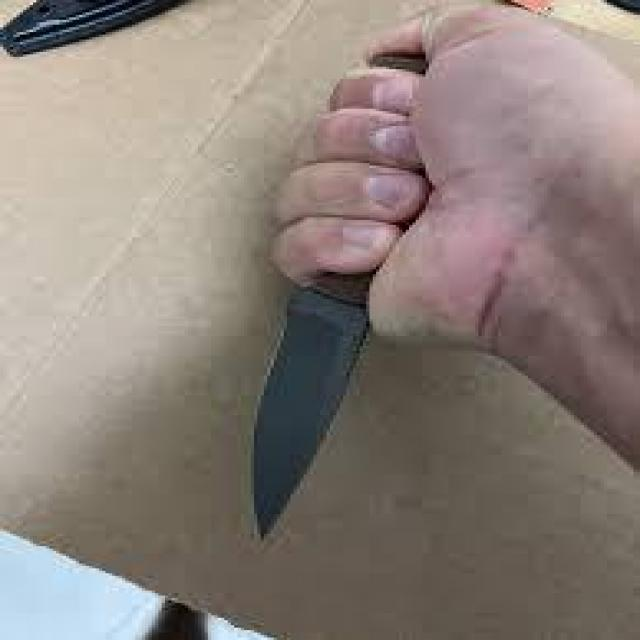knife: (250, 269, 370, 542)
